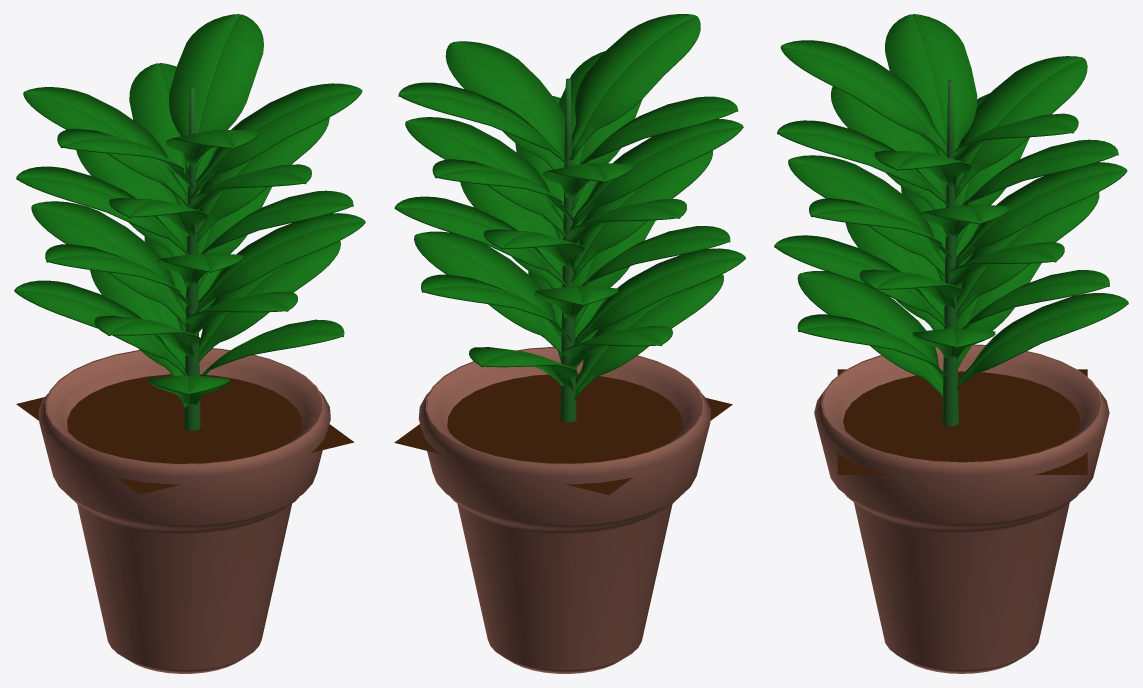
The model's file is planta.glb.
3 renders of one model, left to right at view 1: azimuth 30°, elevation 25°; view 2: azimuth 150°, elevation 25°; view 3: azimuth 270°, elevation 25°, orthographic.
Visible parts, largest first — view 1: Circle, Cilindro, Plano, Cylinder; view 2: Circle, Cilindro, Plano, Cylinder; view 3: Circle, Cilindro, Plano, Cylinder.
Boxes of the visible parts, left/top/right/bottom form: Circle: left=14, top=14, right=365, bottom=407; Cilindro: left=38, top=348, right=330, bottom=673; Plano: left=16, top=374, right=354, bottom=494; Cylinder: left=184, top=87, right=200, bottom=430; Circle: left=394, top=14, right=745, bottom=399; Cilindro: left=418, top=346, right=711, bottom=673; Plano: left=394, top=374, right=732, bottom=494; Cylinder: left=560, top=78, right=576, bottom=422; Circle: left=774, top=14, right=1128, bottom=397; Cilindro: left=814, top=344, right=1109, bottom=673; Plano: left=837, top=369, right=1087, bottom=474; Cylinder: left=942, top=79, right=958, bottom=426.
Size of the model in its own units: 8.93 by 16.14 by 8.94.
